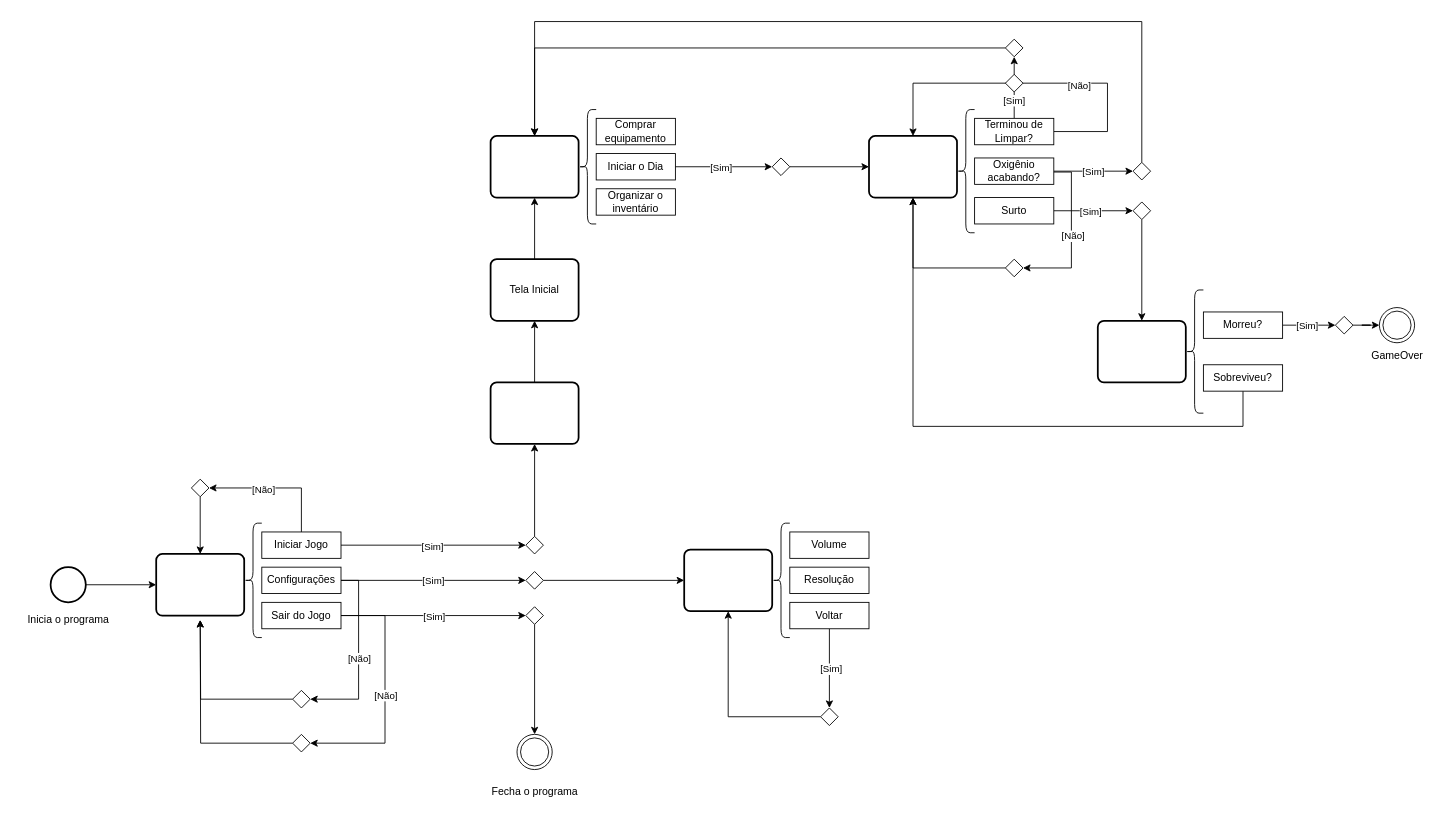
Image size: 1447x820. Some labels were removed from this diagram. Each missing label, with the centre of its shape:
Cena do mar (gameplay): the point at 912,166
Cena do mar (Versão do mal): the point at 1141,351
Cutscene: the point at 534,412
Tela da Casa do personagem: the point at 534,166
Tela de Configuração: the point at 728,580
Tela de Menu: the point at 200,584
